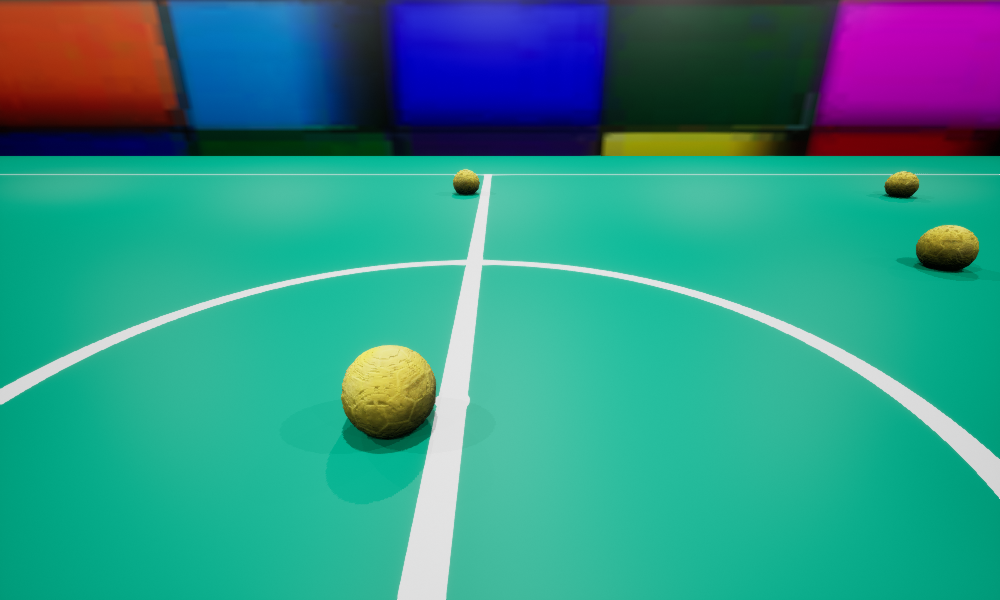b: (341, 345, 435, 437), (916, 225, 978, 270), (884, 171, 918, 197), (453, 169, 479, 194)
